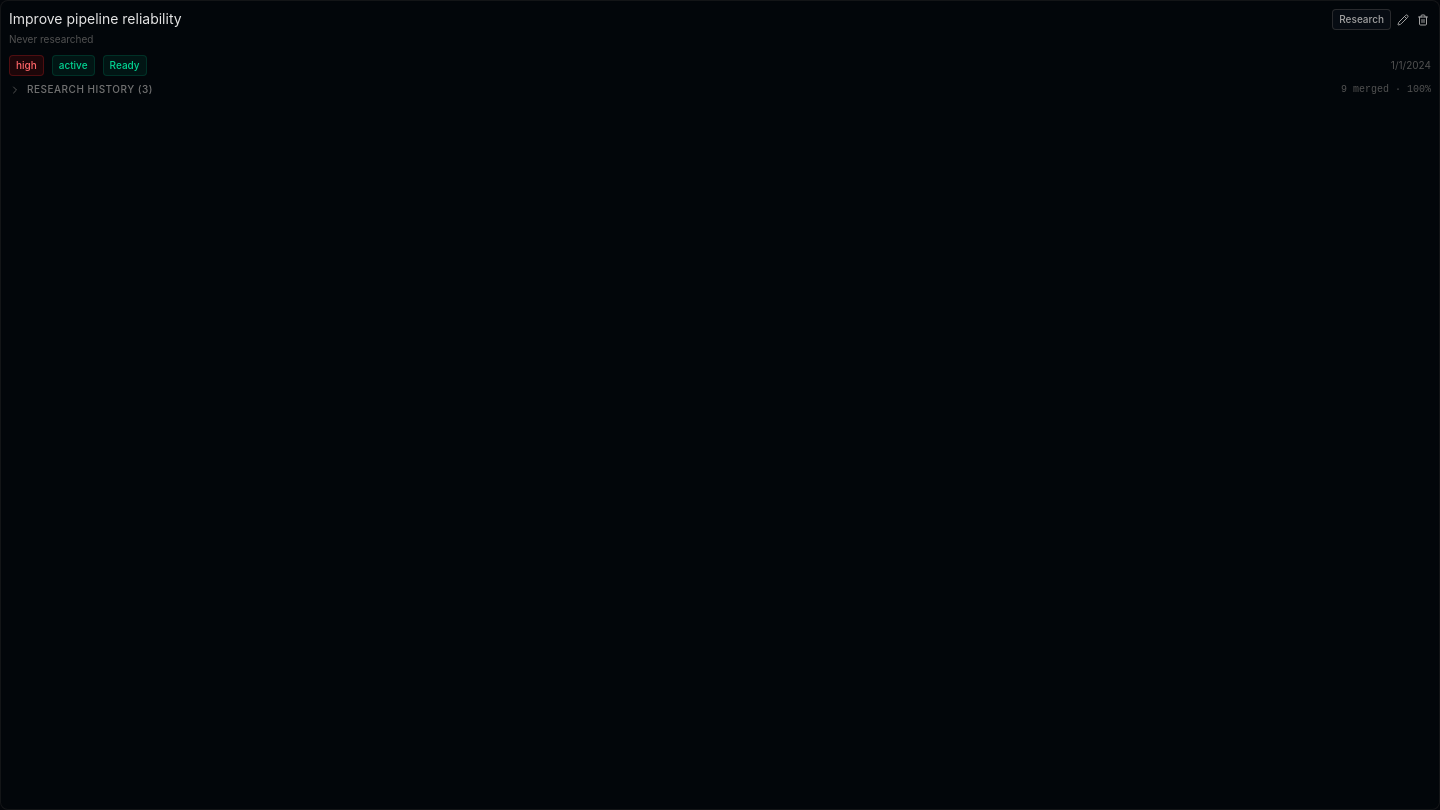
Scenario: DirectionCard per-cycle delta badge › shows rolling avg label when three or more cycles are available
The image size is (1440, 810).
What coordinates should you click on to do the following:
click the button "Research History (3) 9 merged · 100%"
I would click on:
 (85, 89)
Its box is left=9, top=82, right=1431, bottom=97.
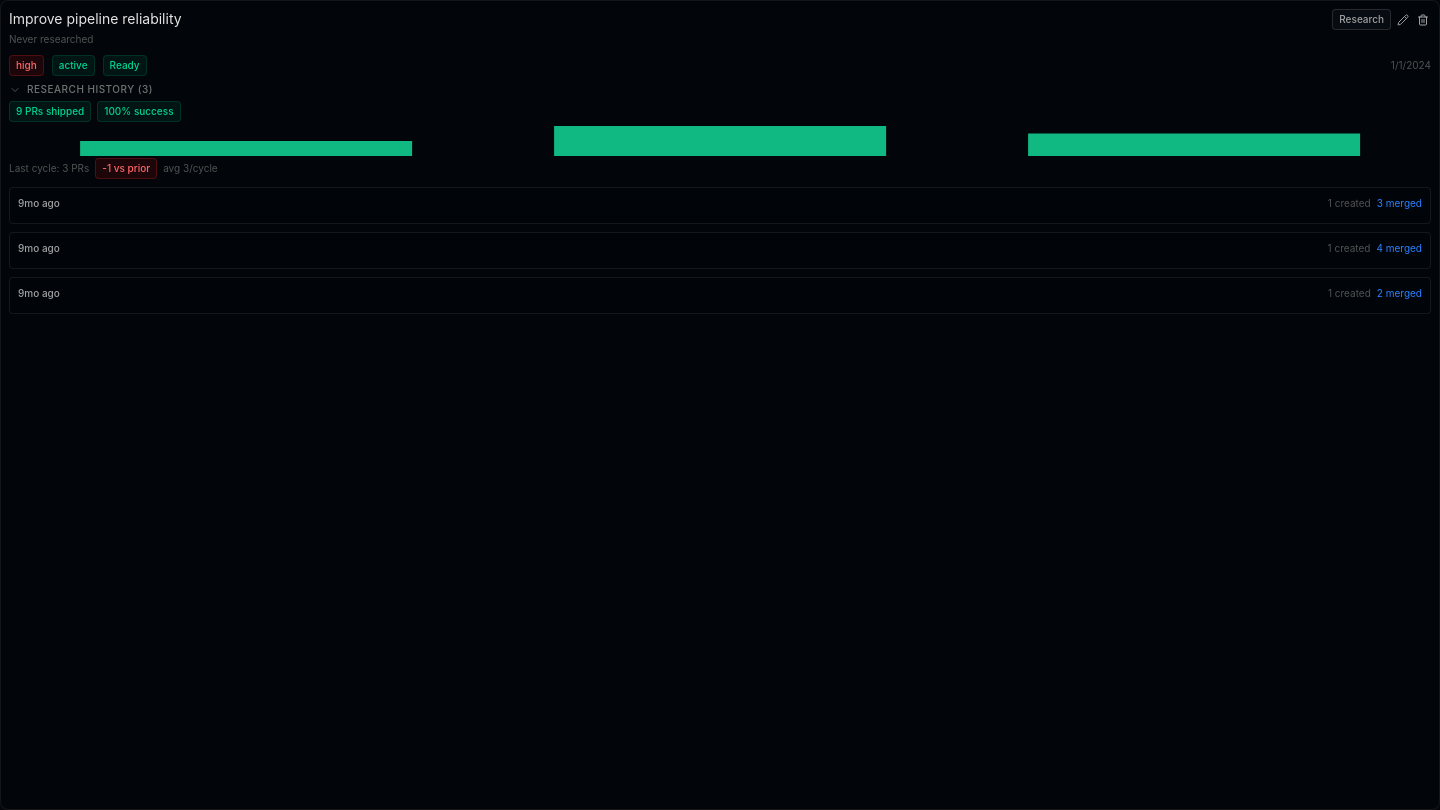
expect the text "avg 3/cycle" is shown: met, box left=163, top=161, right=218, bottom=176
